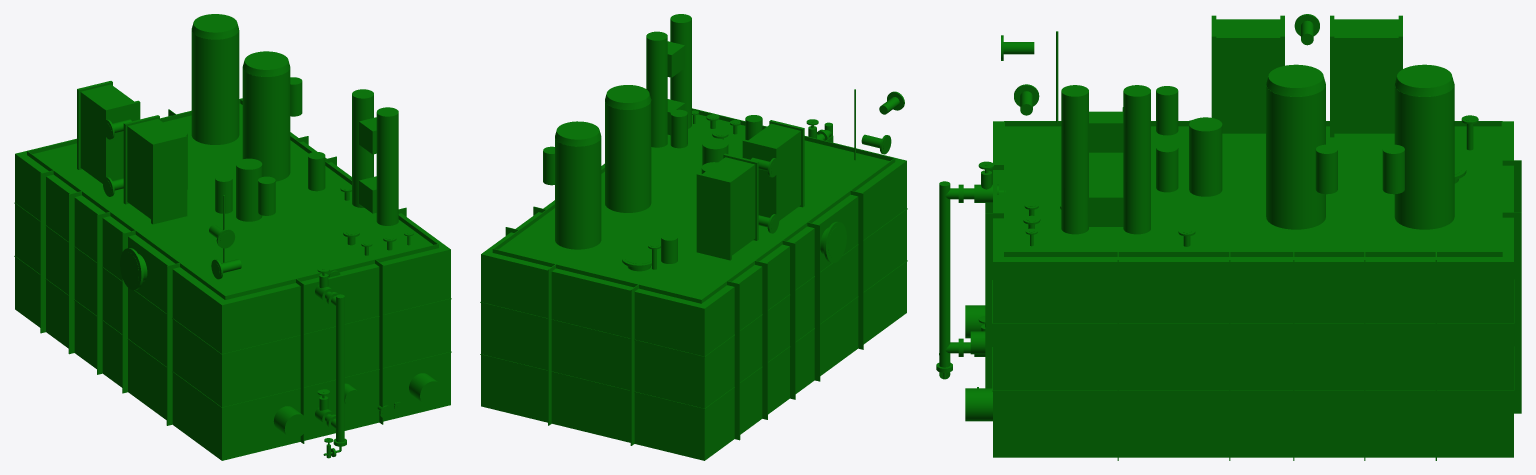
File: Image-1711348127840-2280757797024_27-CS51.fbx
3 views of the same model, side by side, from view 1: azimuth 30°, elevation 25°; view 2: azimuth 150°, elevation 25°; view 3: azimuth 270°, elevation 25° (orthographic). The views are drawn at different scales.
Visible parts, largest first — view 1: BOX 23 of SUBEQUIPMENT /27-CS51/TANK_WALL, CYLINDER 2 of SUBEQUIPMENT /27-CS51/27-PA51B, CYLINDER 1 of SUBEQUIPMENT /27-CS51/27-PA51A, BOX 3 of SUBEQUIPMENT /27-CS51/27-HB51A, BOX 4 of EQUIPMENT /27-CS51, CYLINDER 3 of SUBEQUIPMENT /27-CS51/27-CB51, BOX 2 of SUBEQUIPMENT /27-CS51/27-HB51B, BOX 2 of SUBEQUIPMENT /27-CS51/27-HB51A, CYLINDER 1 of SUBEQUIPMENT /27-CS51/27-CB51, BOX 1 of SUBEQUIPMENT /27-CS51/27-HB51B, CYLINDER 1 of SUBEQUIPMENT /27-CS51/27-PCV4723, CYLINDER 1 of EQUIPMENT /27-CS51 (+20 smaller); view 2: BOX 23 of SUBEQUIPMENT /27-CS51/TANK_WALL, CYLINDER 2 of SUBEQUIPMENT /27-CS51/27-PA51B, CYLINDER 1 of SUBEQUIPMENT /27-CS51/27-PA51A, BOX 4 of EQUIPMENT /27-CS51, BOX 3 of SUBEQUIPMENT /27-CS51/27-HB51B, BOX 2 of SUBEQUIPMENT /27-CS51/27-HB51B, BOX 2 of SUBEQUIPMENT /27-CS51/27-HB51A, CYLINDER 1 of SUBEQUIPMENT /27-CS51/27-CB51, CYLINDER 3 of SUBEQUIPMENT /27-CS51/27-CB51, BOX 1 of SUBEQUIPMENT /27-CS51/27-HB51A, BOX 3 of SUBEQUIPMENT /27-CS51/TANK_WALL, BOX 9 of SUBEQUIPMENT /27-CS51/TANK_WALL (+16 smaller); view 3: BOX 23 of SUBEQUIPMENT /27-CS51/TANK_WALL, CYLINDER 2 of SUBEQUIPMENT /27-CS51/27-PA51B, CYLINDER 1 of SUBEQUIPMENT /27-CS51/27-PA51A, BOX 2 of SUBEQUIPMENT /27-CS51/27-HB51B, BOX 2 of SUBEQUIPMENT /27-CS51/27-HB51A, CYLINDER 3 of SUBEQUIPMENT /27-CS51/27-CB51, CYLINDER 1 of SUBEQUIPMENT /27-CS51/27-CB51, BOX 4 of EQUIPMENT /27-CS51, CYLINDER 1 of SUBEQUIPMENT /27-CS51/27-PCV4723, CYLINDER 1 of EQUIPMENT /27-CS51, BOX 2 of SUBEQUIPMENT /27-CS51/TANK_WALL, CONE 1 of SUBEQUIPMENT /27-CS51/27-PA51A (+15 smaller).
Boxes of the visible parts, left/top/right/bottom form: BOX 23 of SUBEQUIPMENT /27-CS51/TANK_WALL: left=15, top=98, right=450, bottom=460; CYLINDER 2 of SUBEQUIPMENT /27-CS51/27-PA51B: left=191, top=28, right=239, bottom=144; CYLINDER 1 of SUBEQUIPMENT /27-CS51/27-PA51A: left=242, top=66, right=290, bottom=181; BOX 3 of SUBEQUIPMENT /27-CS51/27-HB51A: left=151, top=135, right=187, bottom=224; BOX 4 of EQUIPMENT /27-CS51: left=27, top=99, right=438, bottom=299; CYLINDER 3 of SUBEQUIPMENT /27-CS51/27-CB51: left=376, top=107, right=398, bottom=225; BOX 2 of SUBEQUIPMENT /27-CS51/27-HB51B: left=80, top=84, right=133, bottom=183; BOX 2 of SUBEQUIPMENT /27-CS51/27-HB51A: left=127, top=119, right=180, bottom=218; CYLINDER 1 of SUBEQUIPMENT /27-CS51/27-CB51: left=352, top=89, right=373, bottom=207; BOX 1 of SUBEQUIPMENT /27-CS51/27-HB51B: left=104, top=100, right=140, bottom=180; CYLINDER 1 of SUBEQUIPMENT /27-CS51/27-PCV4723: left=236, top=158, right=262, bottom=221; CYLINDER 1 of EQUIPMENT /27-CS51: left=336, top=294, right=344, bottom=442; BOX 23 of SUBEQUIPMENT /27-CS51/TANK_WALL: left=481, top=108, right=906, bottom=460; CYLINDER 2 of SUBEQUIPMENT /27-CS51/27-PA51B: left=555, top=135, right=601, bottom=249; CYLINDER 1 of SUBEQUIPMENT /27-CS51/27-PA51A: left=605, top=99, right=651, bottom=212; BOX 4 of EQUIPMENT /27-CS51: left=492, top=108, right=895, bottom=303; BOX 3 of SUBEQUIPMENT /27-CS51/27-HB51B: left=696, top=173, right=731, bottom=260; BOX 2 of SUBEQUIPMENT /27-CS51/27-HB51B: left=703, top=157, right=755, bottom=255; BOX 2 of SUBEQUIPMENT /27-CS51/27-HB51A: left=748, top=123, right=800, bottom=220; CYLINDER 1 of SUBEQUIPMENT /27-CS51/27-CB51: left=646, top=31, right=667, bottom=147; CYLINDER 3 of SUBEQUIPMENT /27-CS51/27-CB51: left=670, top=14, right=691, bottom=128; BOX 1 of SUBEQUIPMENT /27-CS51/27-HB51A: left=742, top=139, right=777, bottom=217; BOX 3 of SUBEQUIPMENT /27-CS51/TANK_WALL: left=727, top=281, right=740, bottom=440; BOX 9 of SUBEQUIPMENT /27-CS51/TANK_WALL: left=807, top=222, right=820, bottom=381; BOX 23 of SUBEQUIPMENT /27-CS51/TANK_WALL: left=993, top=121, right=1513, bottom=457; CYLINDER 2 of SUBEQUIPMENT /27-CS51/27-PA51B: left=1394, top=84, right=1454, bottom=229; CYLINDER 1 of SUBEQUIPMENT /27-CS51/27-PA51A: left=1266, top=84, right=1325, bottom=229; BOX 2 of SUBEQUIPMENT /27-CS51/27-HB51B: left=1334, top=19, right=1398, bottom=133; BOX 2 of SUBEQUIPMENT /27-CS51/27-HB51A: left=1216, top=19, right=1280, bottom=133; CYLINDER 3 of SUBEQUIPMENT /27-CS51/27-CB51: left=1061, top=85, right=1088, bottom=234; CYLINDER 1 of SUBEQUIPMENT /27-CS51/27-CB51: left=1123, top=85, right=1150, bottom=234; BOX 4 of EQUIPMENT /27-CS51: left=1004, top=121, right=1502, bottom=256; CYLINDER 1 of SUBEQUIPMENT /27-CS51/27-PCV4723: left=1189, top=117, right=1222, bottom=196; CYLINDER 1 of EQUIPMENT /27-CS51: left=939, top=181, right=950, bottom=367; BOX 2 of SUBEQUIPMENT /27-CS51/TANK_WALL: left=1502, top=212, right=1521, bottom=413; CONE 1 of SUBEQUIPMENT /27-CS51/27-PA51A: left=1266, top=64, right=1325, bottom=96.
Bounding box in the file's own units: 3.21 × 5.28 × 3.52.
